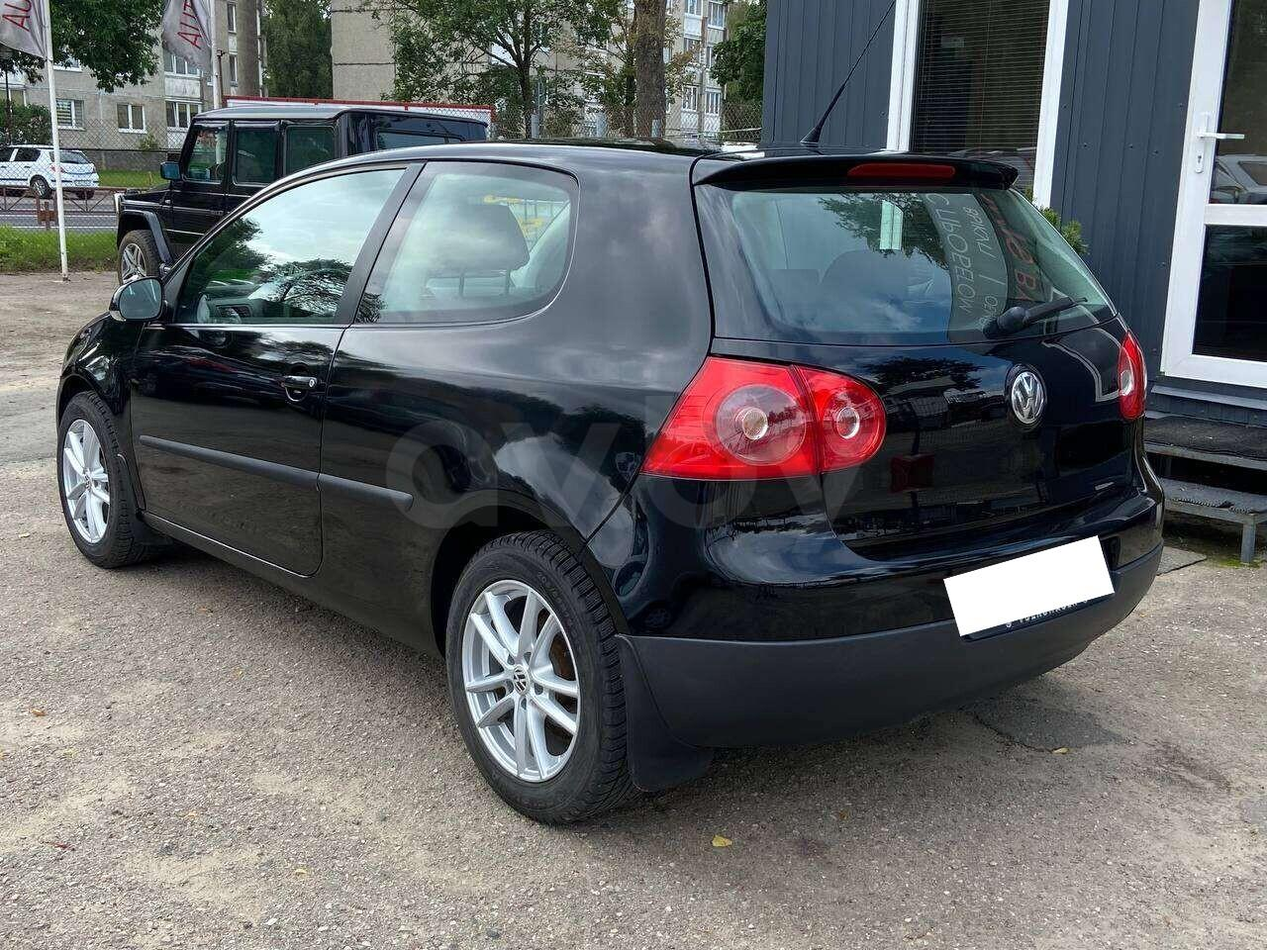Golf_2003-2009: (46, 136, 1177, 809)
